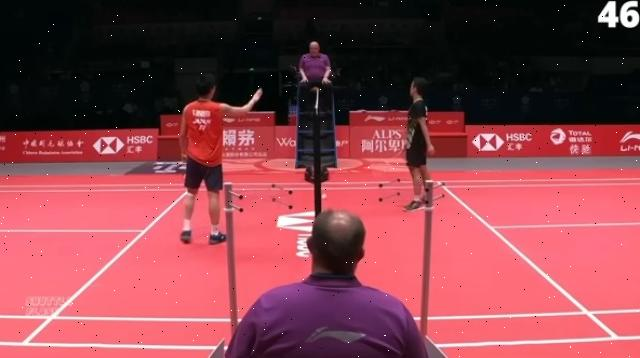Shuttlecock: (320, 192, 332, 202)
